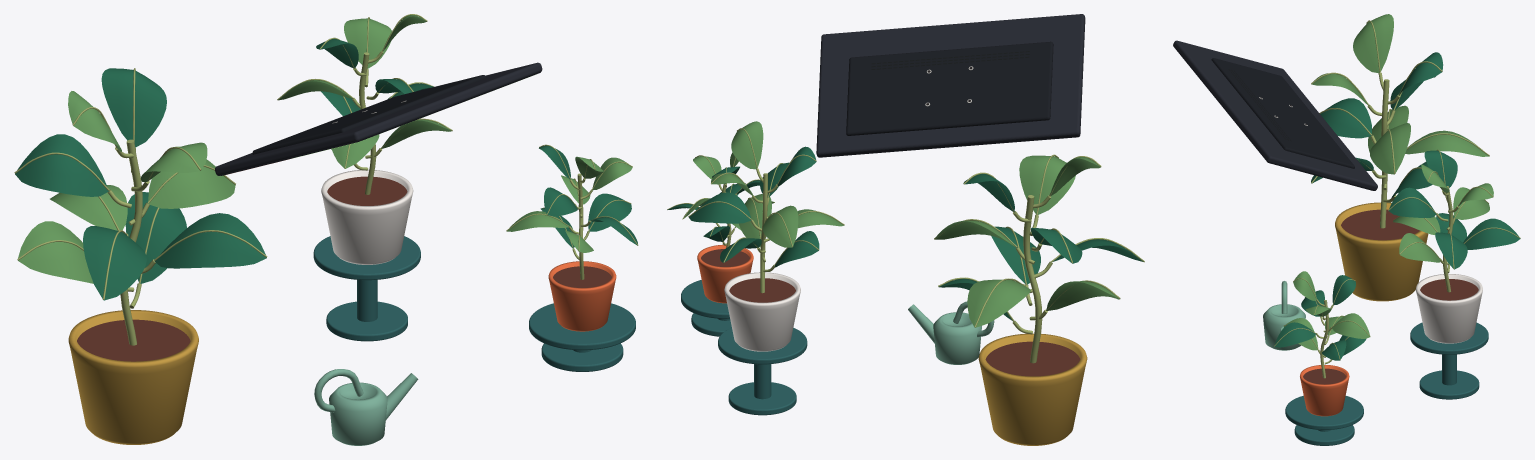
Rendered from conservatory.glb.
3 renders of one model, left to right at view 1: azimuth 30°, elevation 25°; view 2: azimuth 150°, elevation 25°; view 3: azimuth 270°, elevation 25°, orthographic. The views are drawn at different scales.
Parts seen in each view (by area): view 1: Stoneware planter, Stoneware planter.001, TV / graphite frame.005, Glazed rubber leaf.002, Glazed rubber leaf.006, Potting soil, Glazed rubber leaf.008, Glazed rubber leaf.004, Enamel can, Glazed rubber leaf.001, Stoneware planter.002, Plant saucer.001 (+24 smaller); view 2: TV / graphite frame.005, TV / rear enclosure.005, Stoneware planter, Stoneware planter.001, Potting soil, Enamel can, Glazed rubber leaf.003, Glazed rubber leaf.007, Plant saucer, Round foot, Stoneware planter.002, Glazed rubber leaf.014 (+22 smaller); view 3: TV / graphite frame.005, TV / rear enclosure.005, Stoneware planter, Stoneware planter.001, Glazed rubber leaf.009, Stoneware planter.002, Plant saucer.001, Potting soil, Glazed rubber leaf.004, Glazed rubber leaf.005, Plant saucer, Round foot (+26 smaller).
Boxes of the visible parts, <box> form: Stoneware planter: <box>68,310,198,444</box>; Stoneware planter.001: <box>321,169,413,264</box>; TV / graphite frame.005: <box>215,62,542,175</box>; Glazed rubber leaf.002: <box>154,213,266,268</box>; Glazed rubber leaf.006: <box>15,134,108,196</box>; Potting soil: <box>77,319,190,361</box>; Glazed rubber leaf.008: <box>101,68,166,147</box>; Glazed rubber leaf.004: <box>83,226,146,300</box>; Enamel can: <box>329,382,387,445</box>; Glazed rubber leaf.001: <box>17,221,93,283</box>; Stoneware planter.002: <box>548,261,616,331</box>; Plant saucer.001: <box>529,303,635,350</box>; TV / graphite frame.005: <box>816,14,1085,157</box>; TV / rear enclosure.005: <box>846,41,1053,135</box>; Stoneware planter: <box>978,333,1087,445</box>; Stoneware planter.001: <box>724,272,800,351</box>; Potting soil: <box>985,341,1080,376</box>; Enamel can: <box>933,312,981,364</box>; Glazed rubber leaf.003: <box>967,279,1030,327</box>; Glazed rubber leaf.007: <box>1019,155,1075,214</box>; Plant saucer: <box>718,327,807,364</box>; Round foot: <box>728,382,796,415</box>; Stoneware planter.002: <box>697,244,753,303</box>; Glazed rubber leaf.014: <box>689,192,751,223</box>; TV / graphite frame.005: <box>1173,40,1377,190</box>; TV / rear enclosure.005: <box>1211,58,1354,168</box>; Stoneware planter: <box>1335,202,1428,301</box>; Stoneware planter.001: <box>1415,274,1482,343</box>; Glazed rubber leaf.009: <box>1353,14,1393,72</box>; Stoneware planter.002: <box>1300,365,1349,416</box>; Plant saucer.001: <box>1285,395,1363,429</box>; Potting soil: <box>1341,209,1419,240</box>; Glazed rubber leaf.004: <box>1320,98,1371,138</box>; Glazed rubber leaf.005: <box>1370,123,1410,174</box>; Plant saucer: <box>1410,322,1488,354</box>; Round foot: <box>1419,370,1479,399</box>.
Bounding box in the file's own units: 10.48 × 6.52 × 7.44.
Materials: 17 (2 with a texture image).
